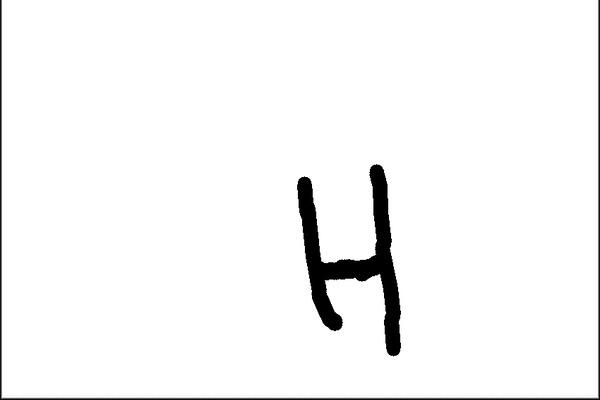H: (286, 161, 412, 360)
